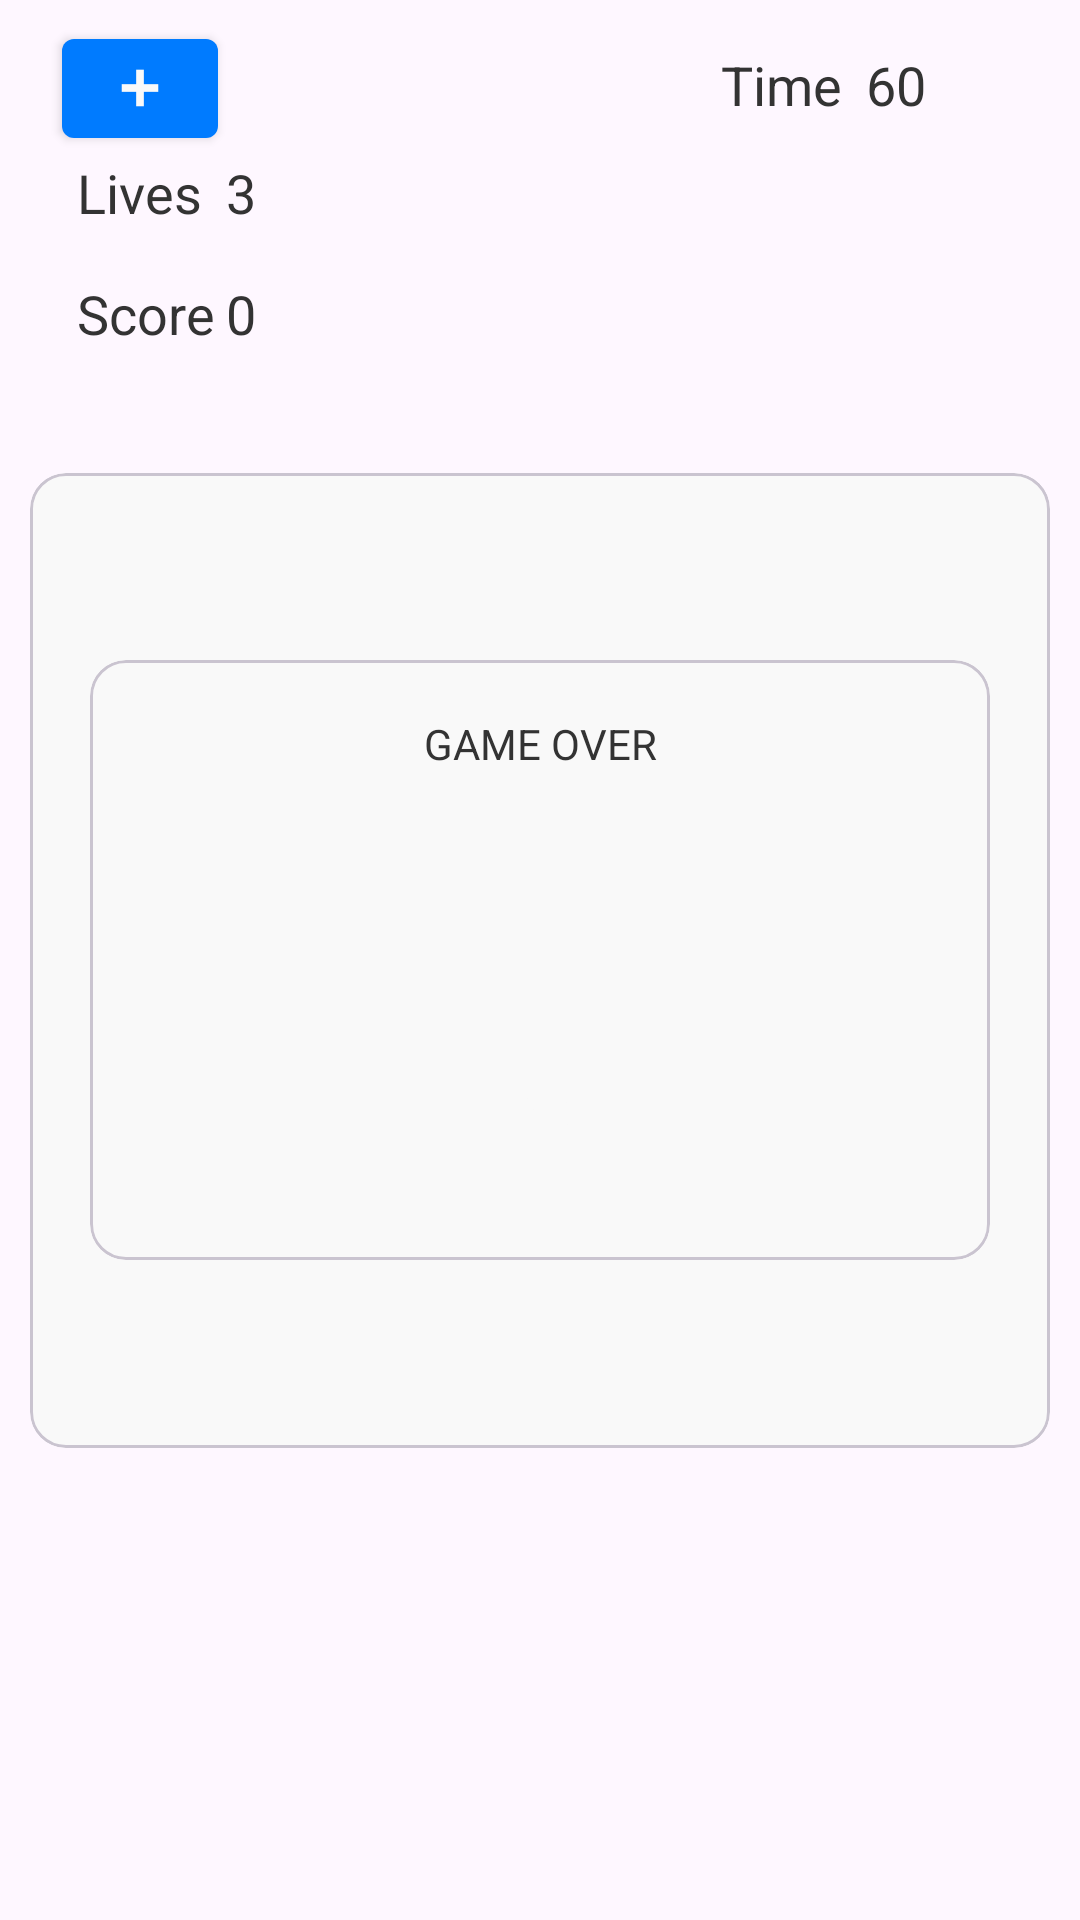

Icons on this 1080px x 1920px Android screen, each with its box as {"x1": x1, "y1": y1, "x2": x2, "y2": y2}:
add: {"x1": 62, "y1": 39, "x2": 218, "y2": 138}
